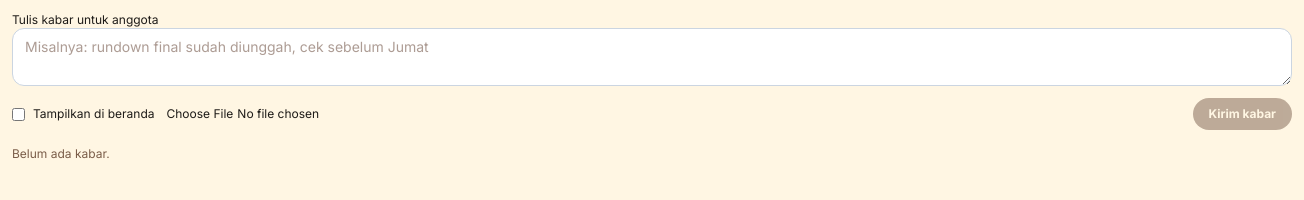
it: KabarAcara › gagal mengirim menampilkan galat, bukan diam
Type "Halo" into the text box labelled "Tulis kabar untuk anggota" at point(652, 57), box [12,28,1292,86]
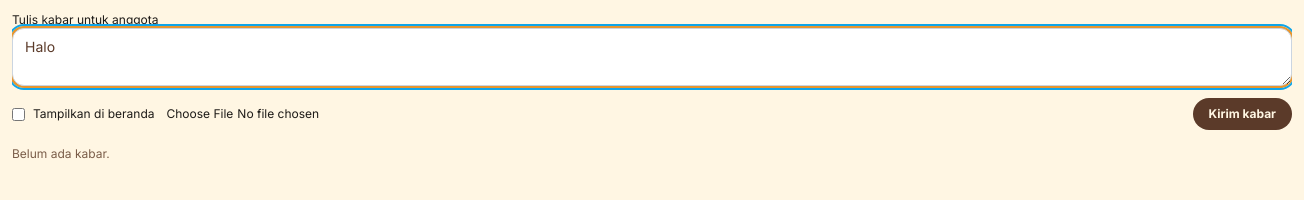
Click the button "Kirim kabar" at point(1242, 114), box [1193,98,1292,130]
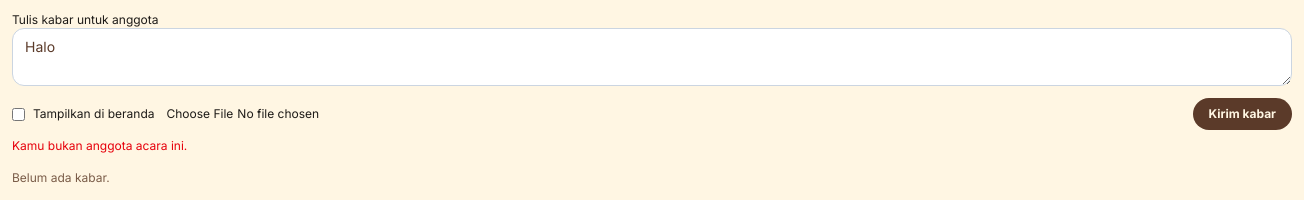
Expected: the message reads "Kamu bukan anggota acara ini.", [12,138,187,153]
